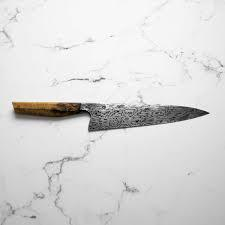Knife: (11, 100, 209, 132)
